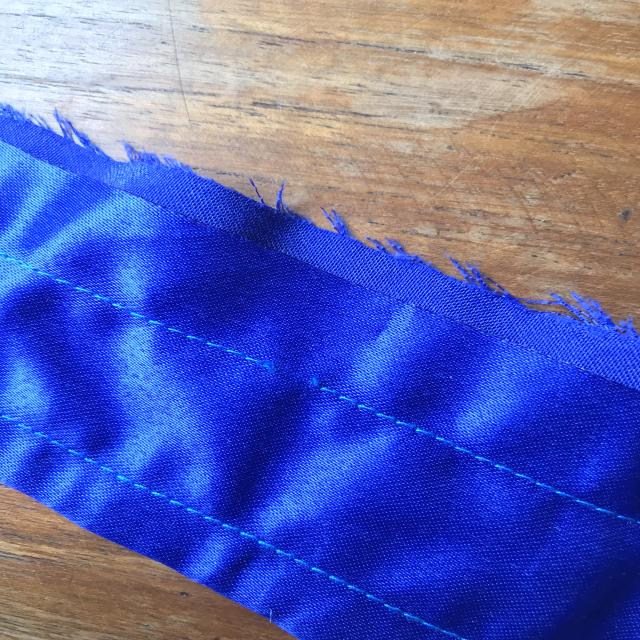broken: (235, 341, 352, 401)
